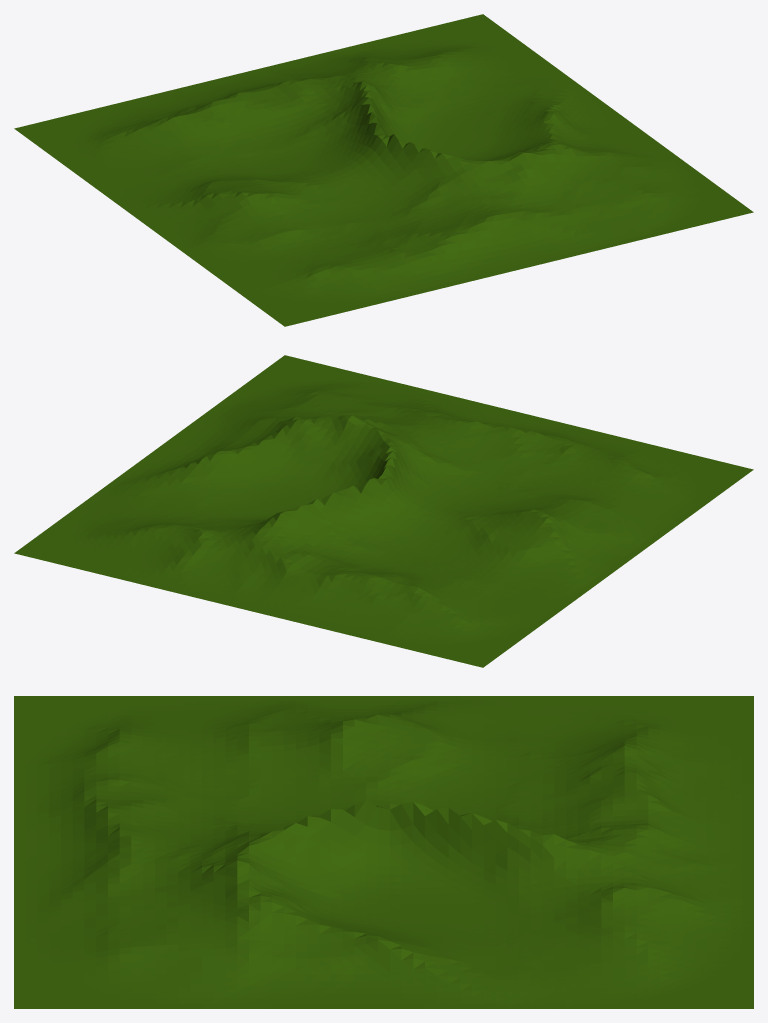
File: simple_terrain.obj
The picture shows the model from 3 angles, top to bottom: view 1: azimuth 30°, elevation 25°; view 2: azimuth 150°, elevation 25°; view 3: azimuth 270°, elevation 25°; orthographic projection. The views are drawn at different scales.
Parts seen in each view (by area): view 1: Landscape; view 2: Landscape; view 3: Landscape.
Part boxes in pixels (<box>): Landscape: <box>14,14,753,326</box>; Landscape: <box>14,355,753,667</box>; Landscape: <box>14,696,753,1008</box>.
Bounding box in the file's own units: 100 × 8.23 × 100.
